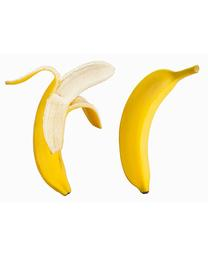banana: (4, 60, 114, 195), (121, 65, 200, 191)
